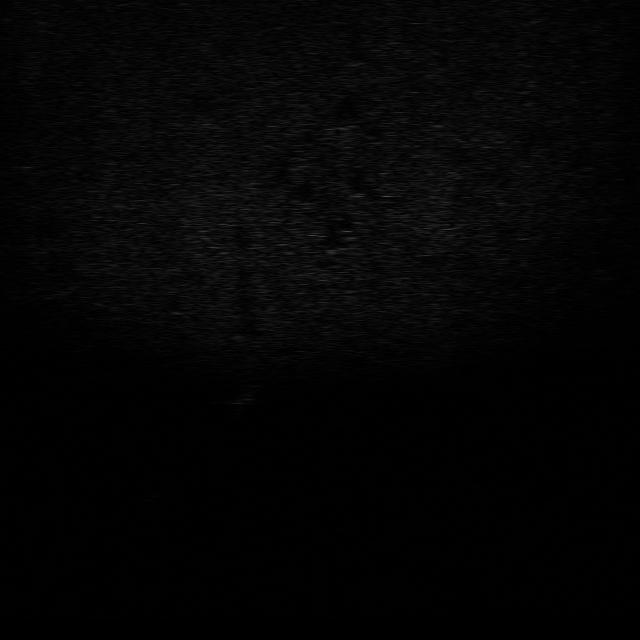human body: (216, 381, 260, 421)
